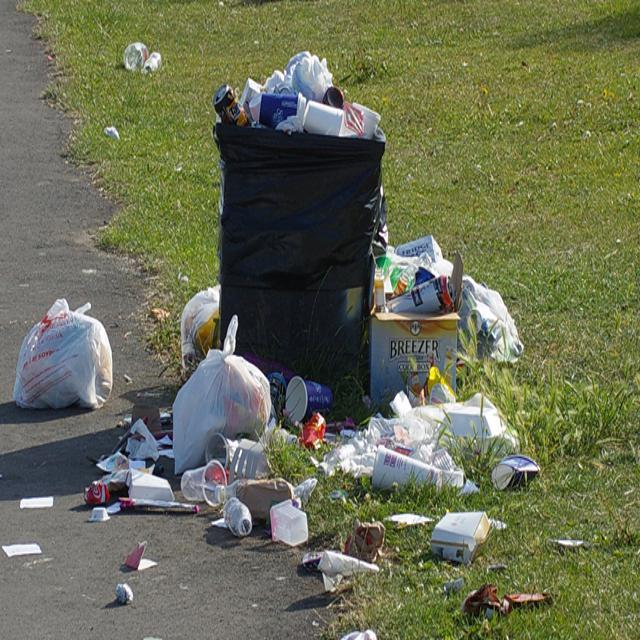garbage: (26, 57, 545, 620)
